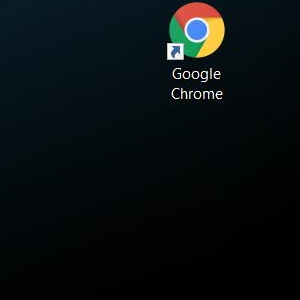chrome: (166, 2, 225, 60)
